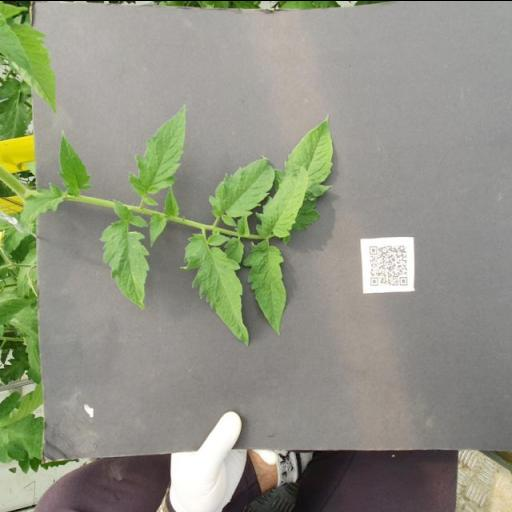Healthy: (274, 103, 340, 244), (181, 232, 249, 344), (127, 102, 187, 206), (98, 198, 150, 306), (209, 154, 275, 226), (242, 238, 286, 336), (256, 165, 310, 239), (57, 127, 93, 196)
